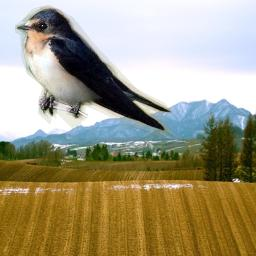Swallow: (15, 5, 171, 136)
